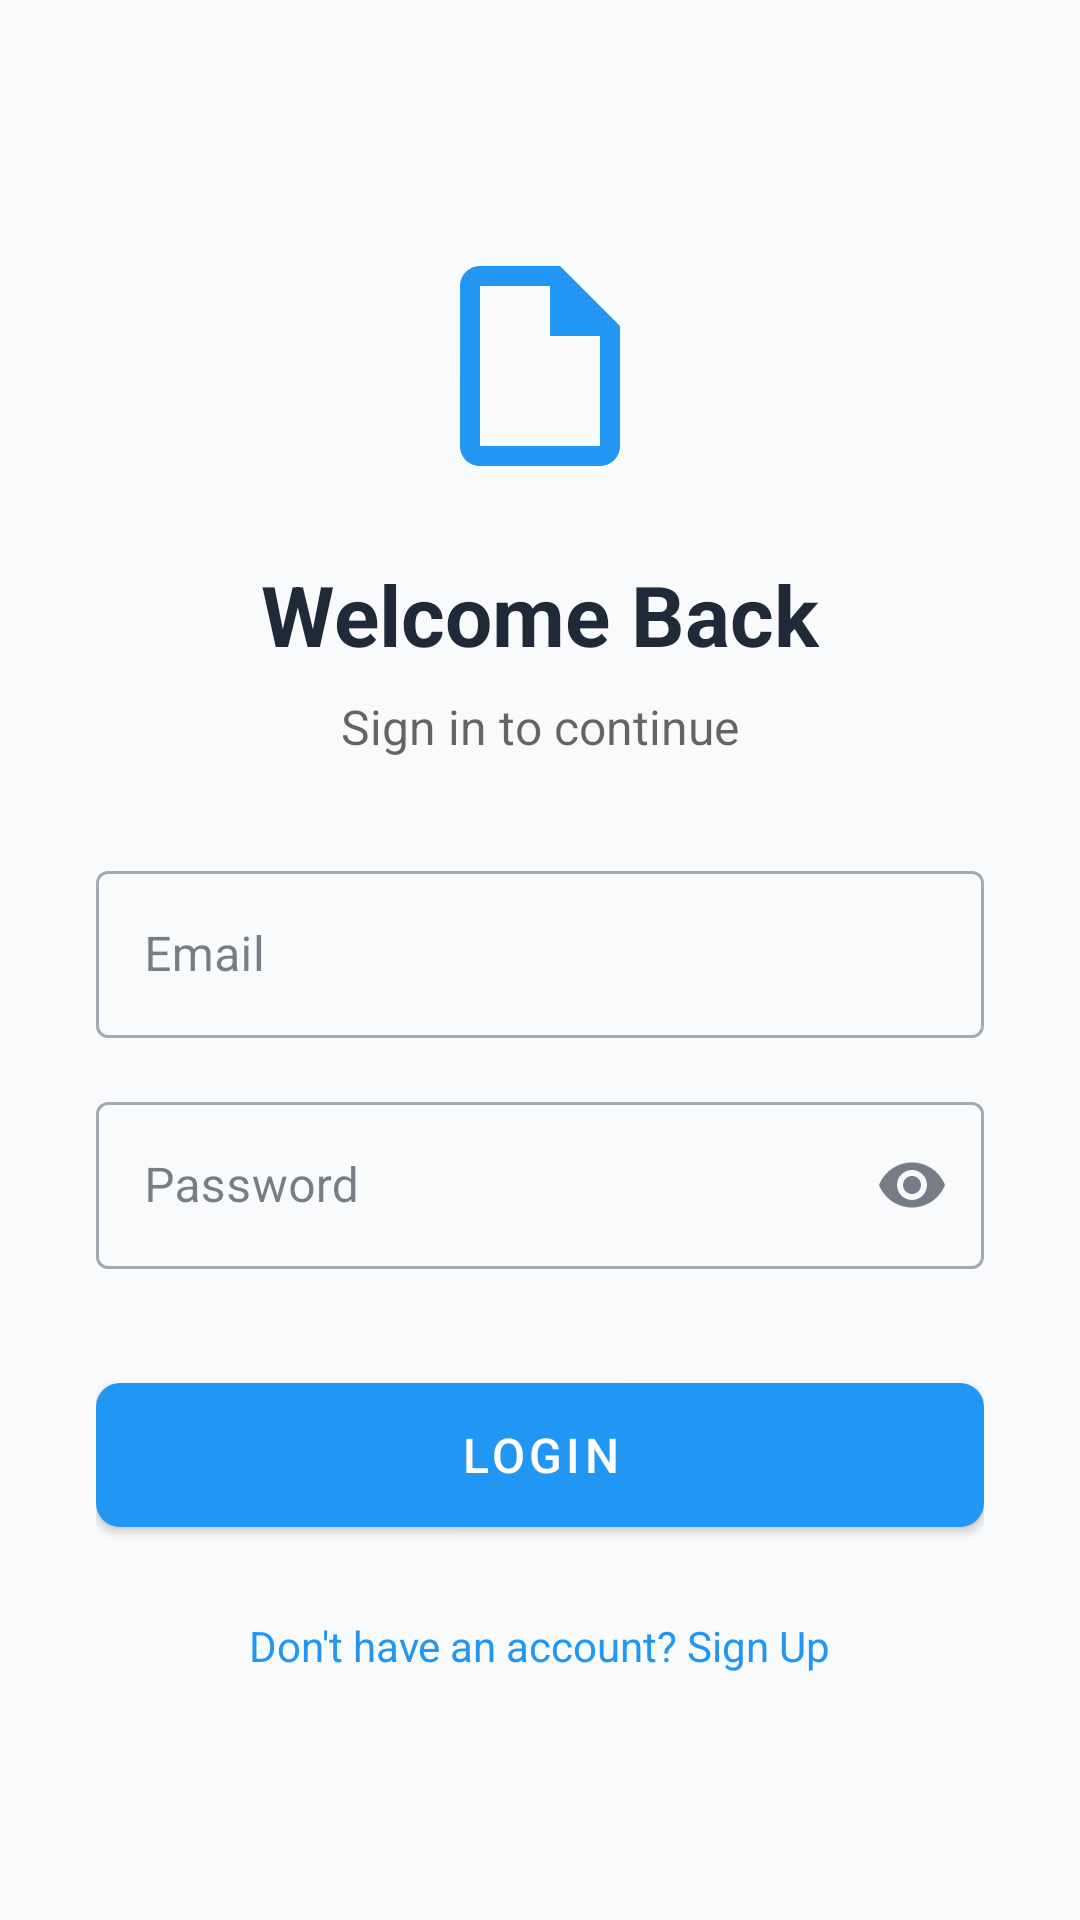

Icons on this 1080×1920 Android screen, each with the point to tap as point (x, y):
note: point (540, 366)
